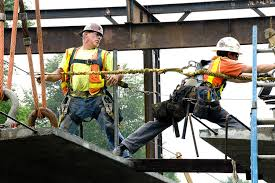hard hat: (216, 36, 244, 54), (80, 24, 105, 38)
high-vis: (62, 47, 105, 94), (203, 56, 243, 93)
